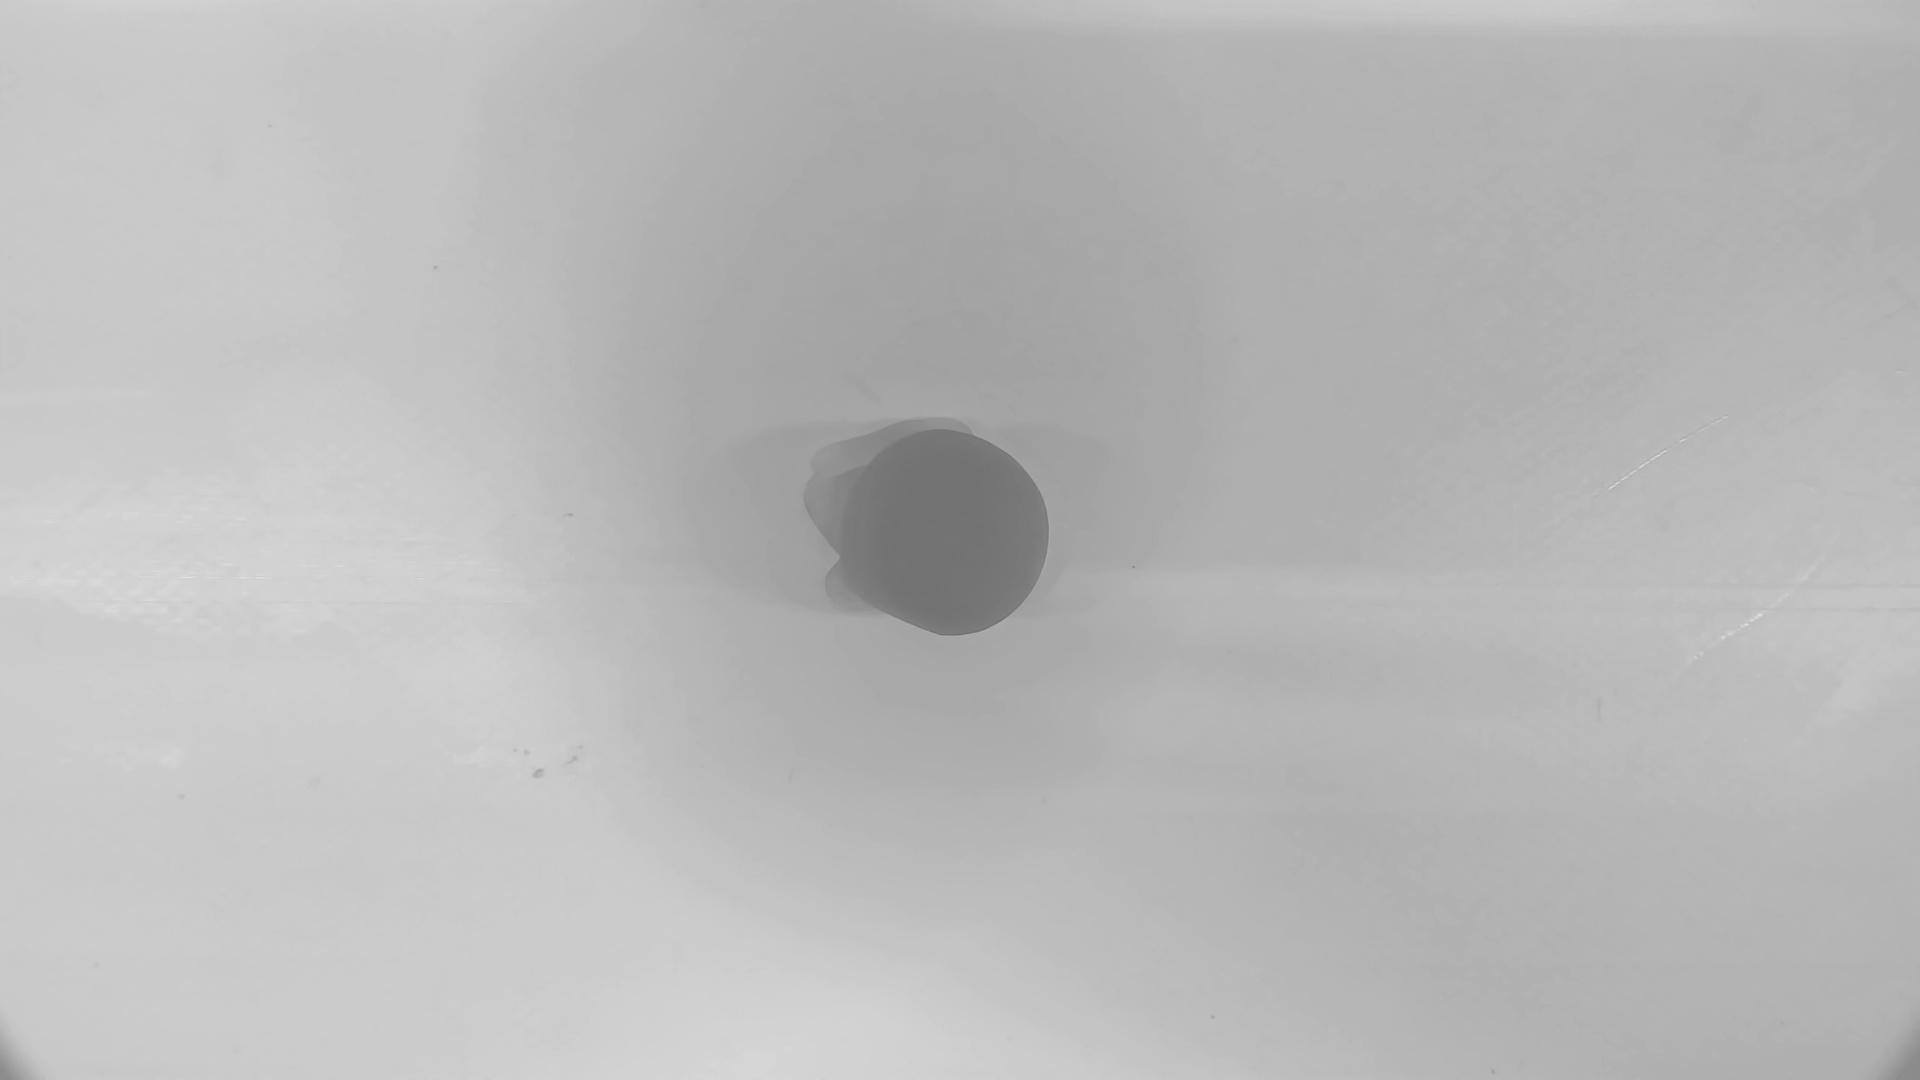abnormal: (806, 414, 1052, 640)
